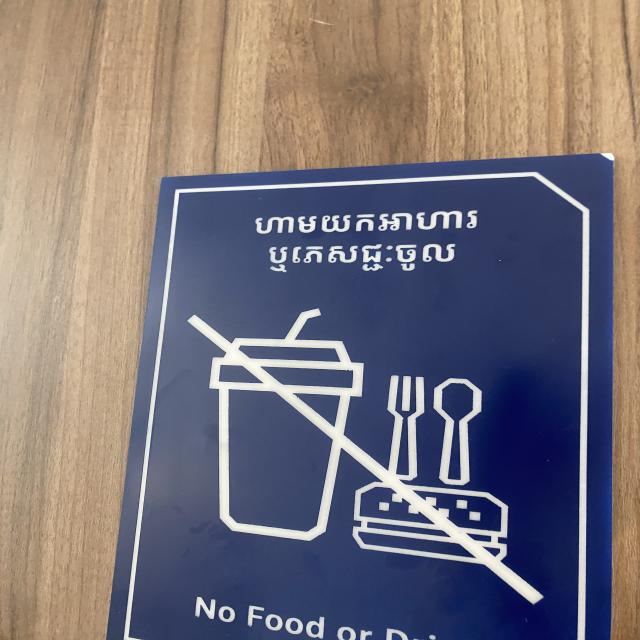Yolov11kh: (250, 204, 484, 237), (263, 240, 461, 277)
